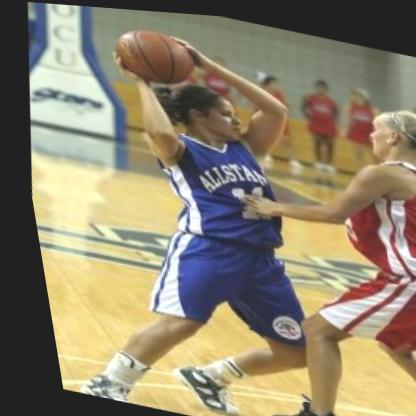basketball: (107, 19, 200, 89)
